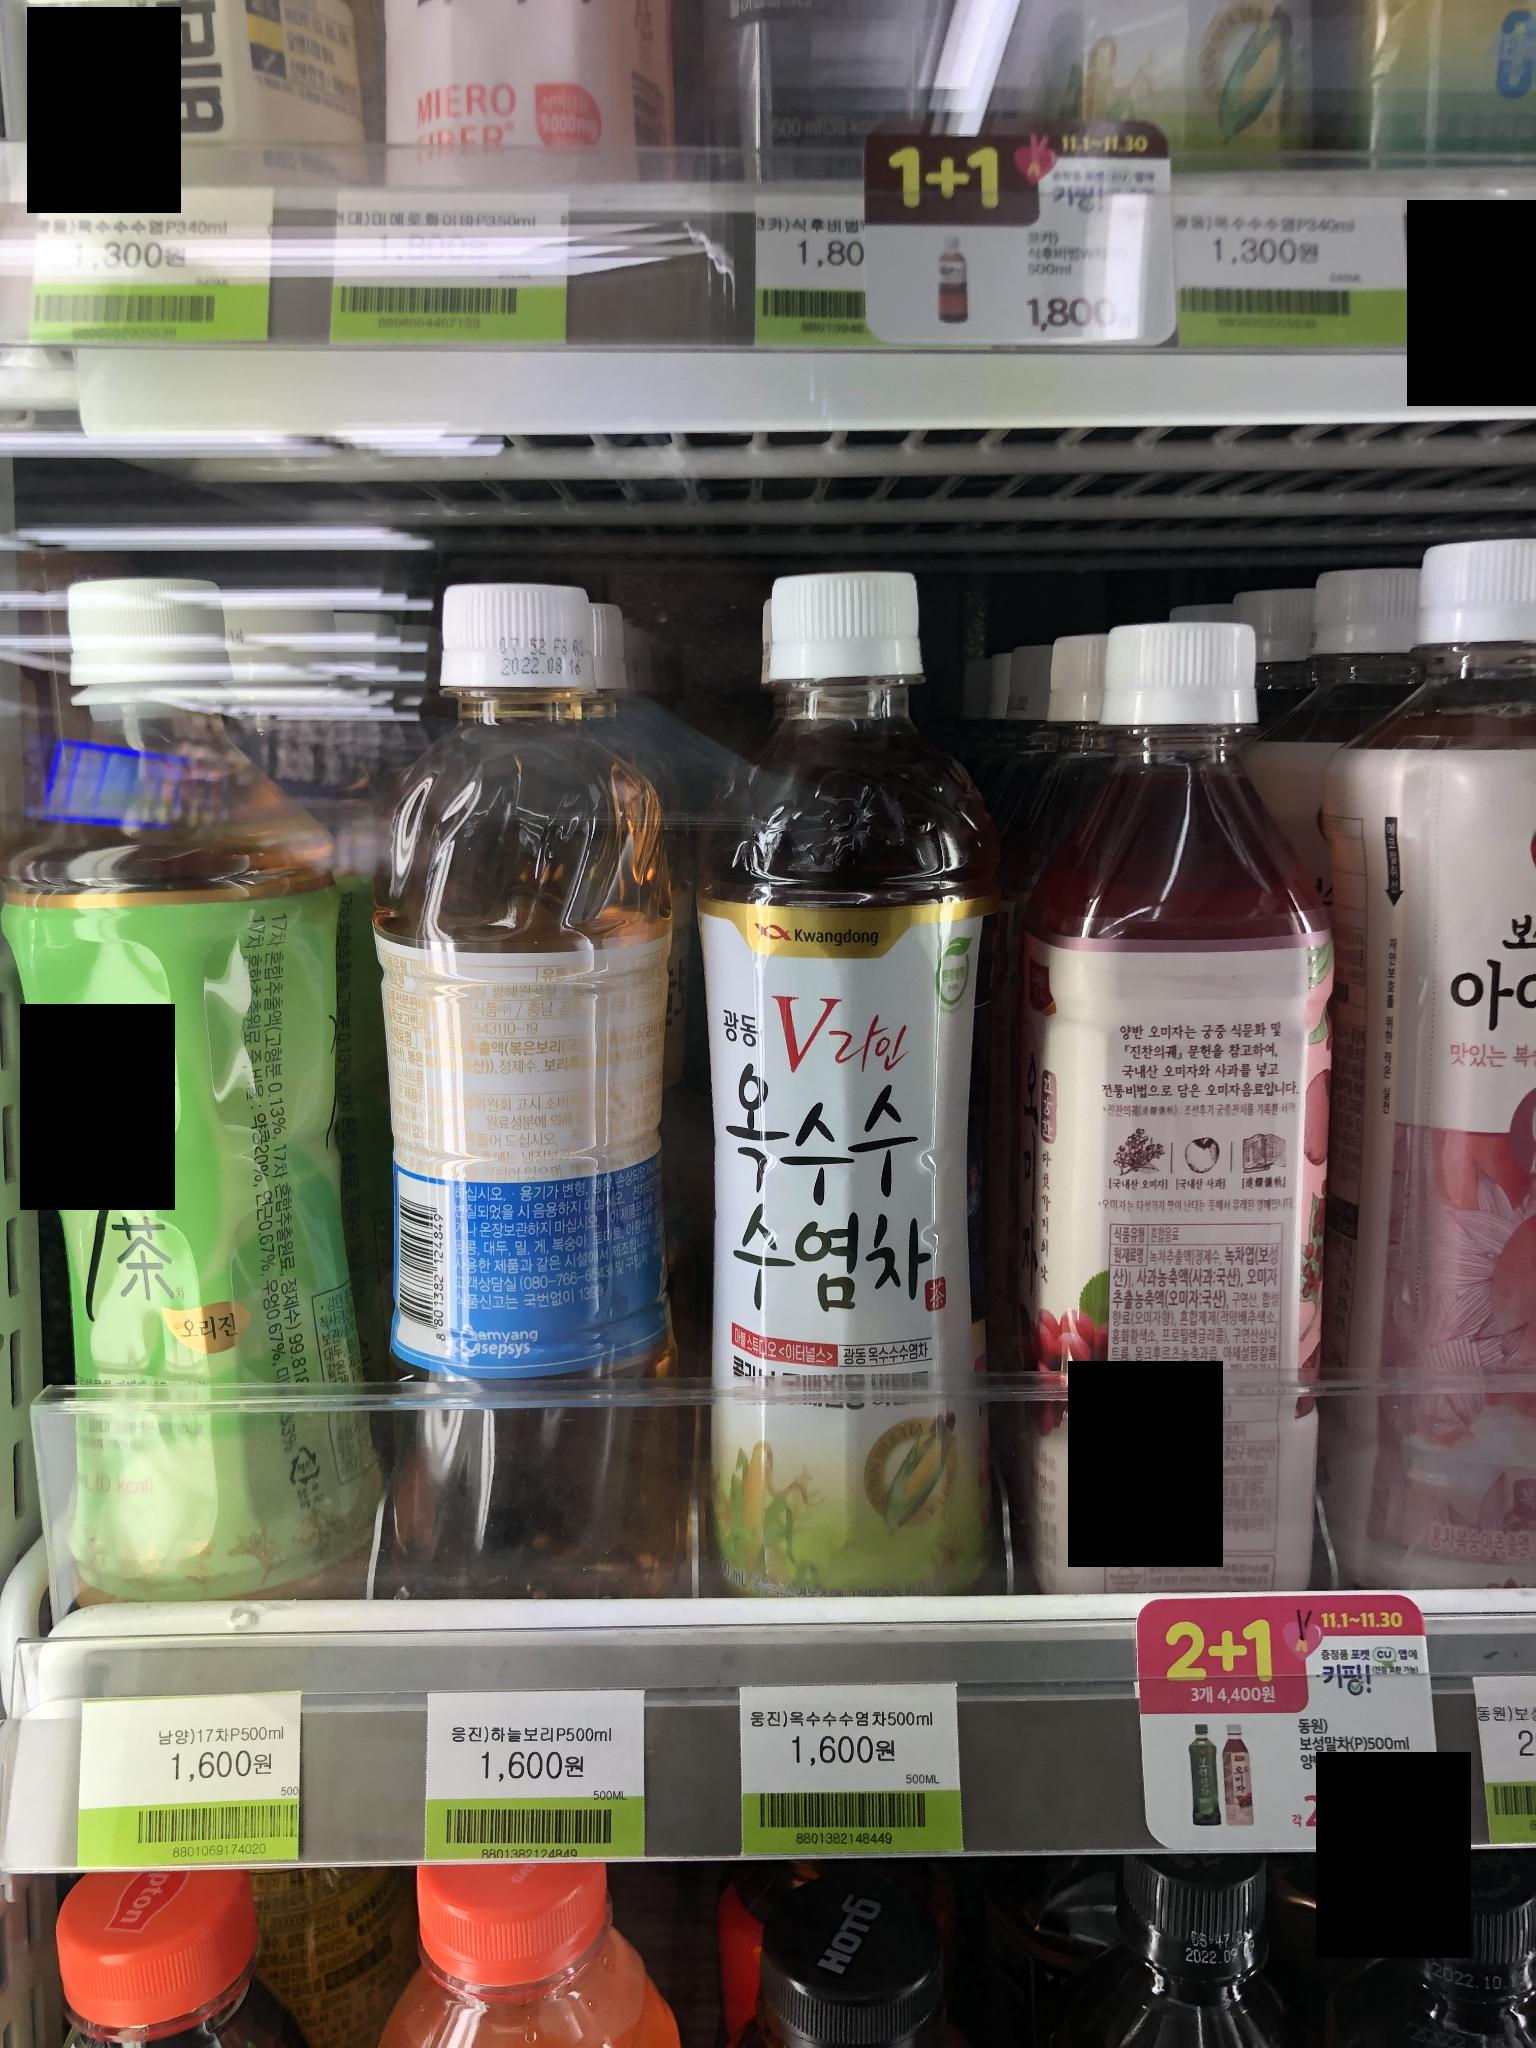haneulbori: (337, 569, 686, 1584)
oksususuyeomcha: (699, 558, 968, 1595)
